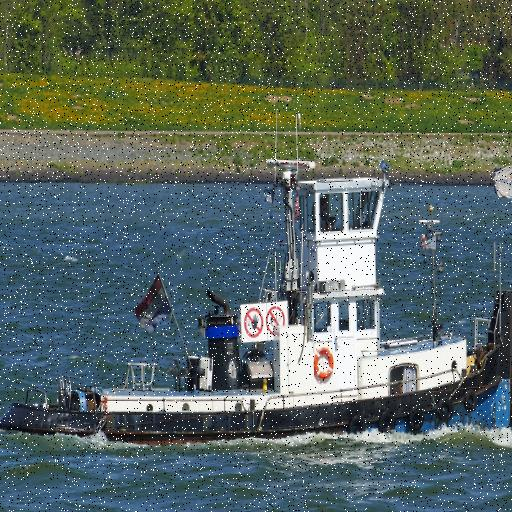tugboat: (1, 153, 512, 462)
